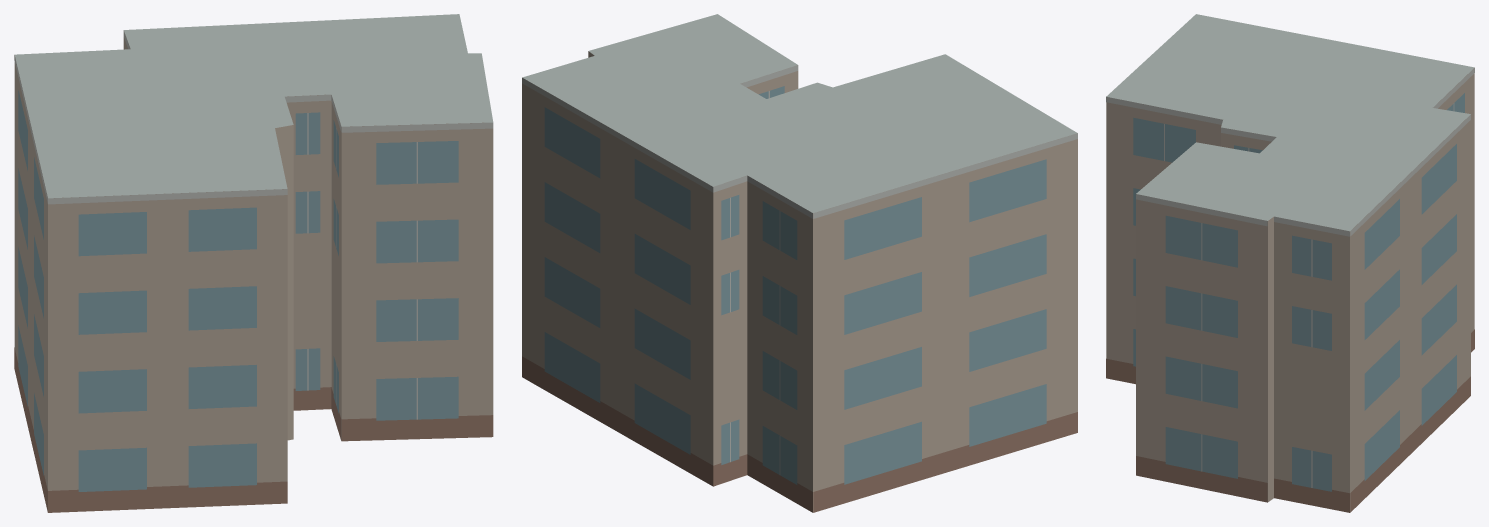
The model's file is survey-upis-32714720.glb.
3 views of the same model, side by side, from view 1: azimuth 30°, elevation 25°; view 2: azimuth 150°, elevation 25°; view 3: azimuth 270°, elevation 25° (orthographic). The views are drawn at different scales.
Visible parts, largest first — view 1: survey-upis-32714720.tmp; view 2: survey-upis-32714720.tmp; view 3: survey-upis-32714720.tmp.
Boxes of the visible parts, <box> form: survey-upis-32714720.tmp: <box>14,14,493,512</box>; survey-upis-32714720.tmp: <box>522,14,1077,512</box>; survey-upis-32714720.tmp: <box>1106,14,1474,512</box>.
Bounding box in the file's own units: 20.78 × 12.55 × 14.9.
